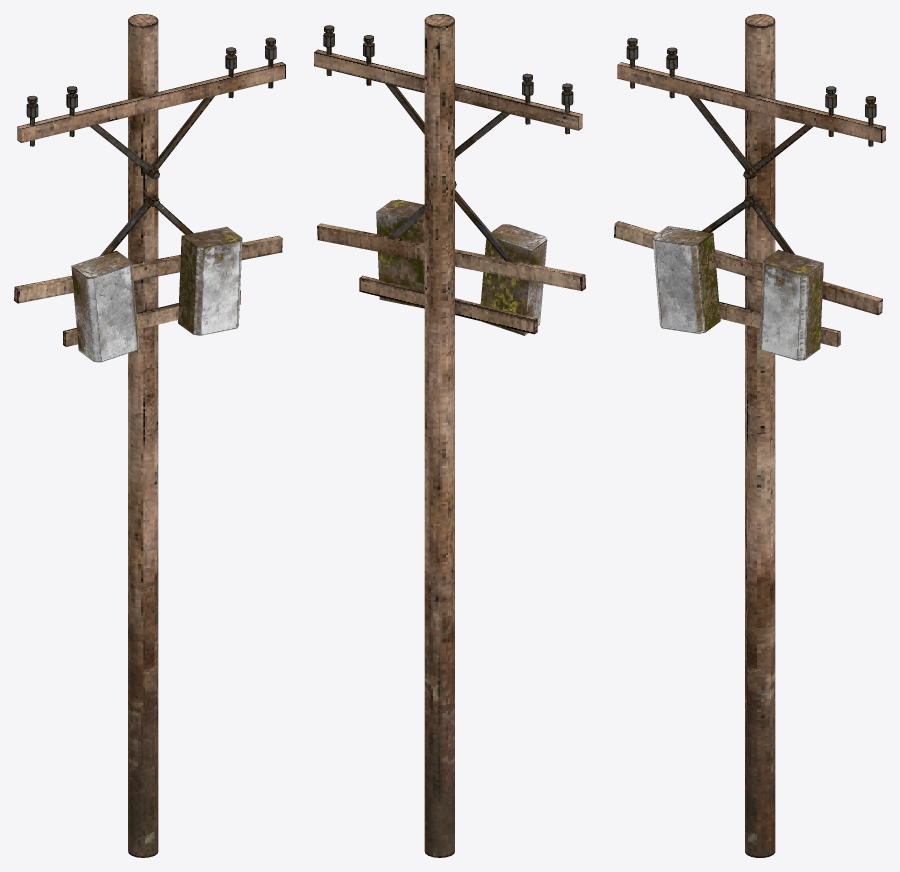
Rendered from E_Pole_4.glb.
3 views of the same model, side by side, from view 1: azimuth 30°, elevation 25°; view 2: azimuth 150°, elevation 25°; view 3: azimuth 330°, elevation 25° (orthographic).
Visible parts, largest first — view 1: E_Pole_4; view 2: E_Pole_4; view 3: E_Pole_4.
Boxes of the visible parts, left/top/right/bottom form: E_Pole_4: left=14, top=14, right=285, bottom=857; E_Pole_4: left=314, top=14, right=585, bottom=857; E_Pole_4: left=614, top=14, right=885, bottom=857.
Size of the model in its own units: 2.03 by 6 by 0.4671.
Materials: 1 (1 with a texture image).
